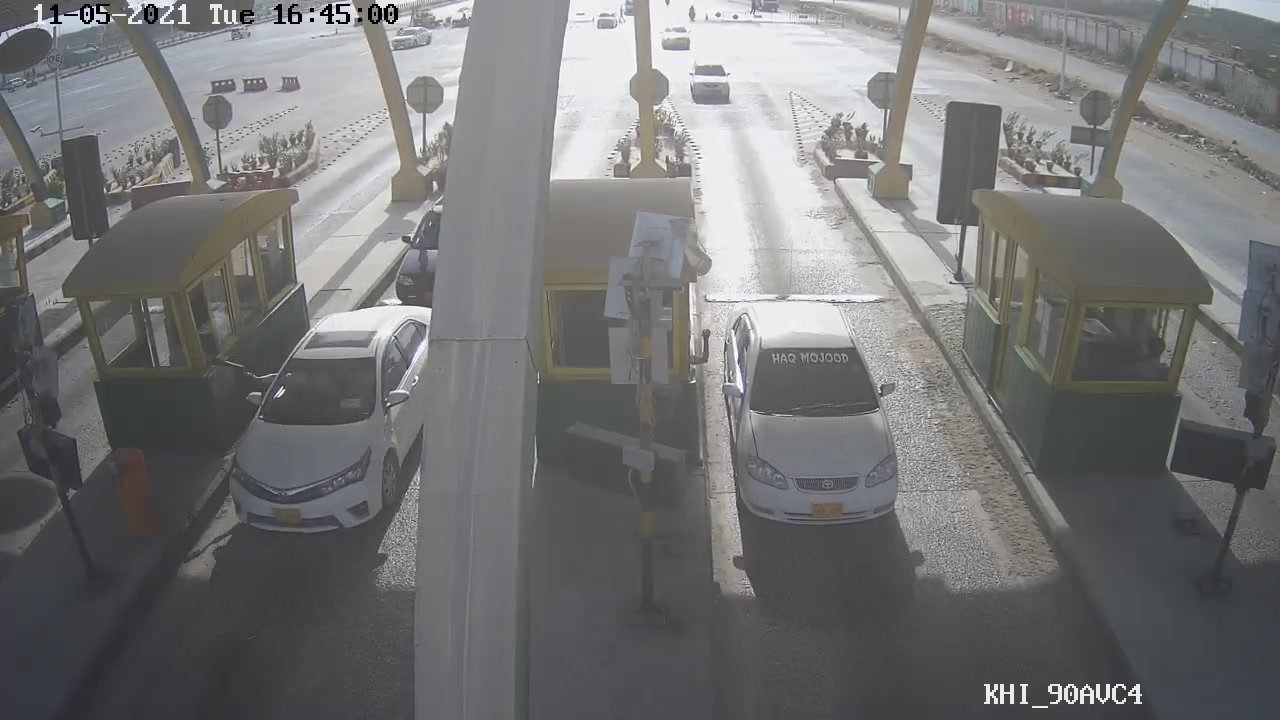F1: (713, 294, 912, 537)
